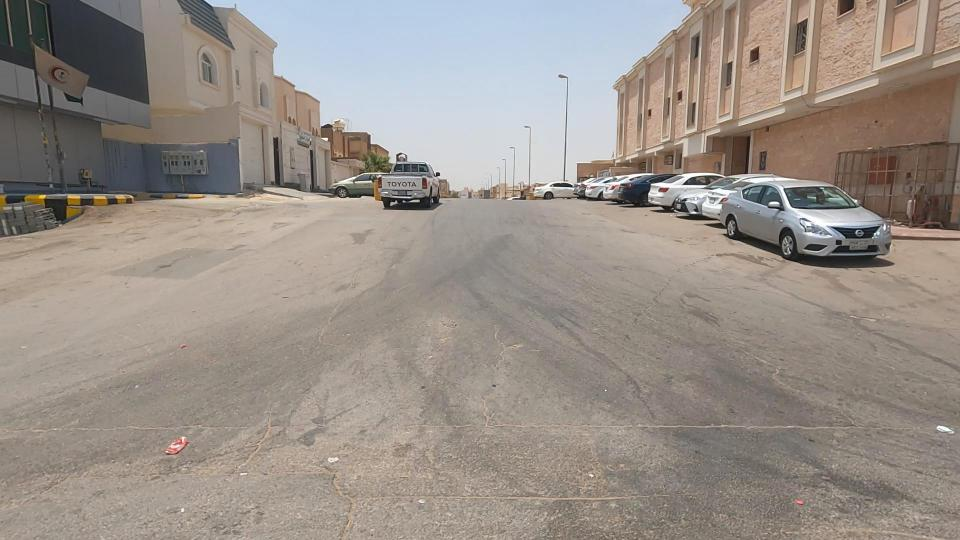GARBAGE: (121, 407, 227, 485)
